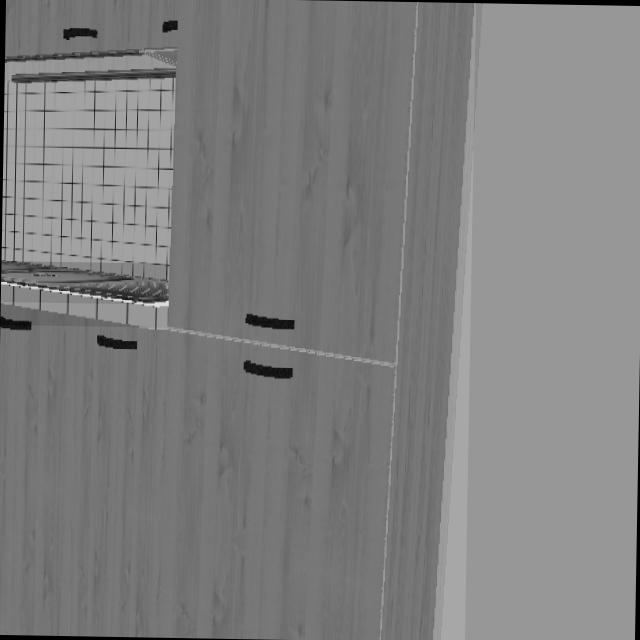cabinet: (0, 0, 476, 640)
countertop: (0, 261, 169, 327)
sink: (1, 261, 166, 304)
